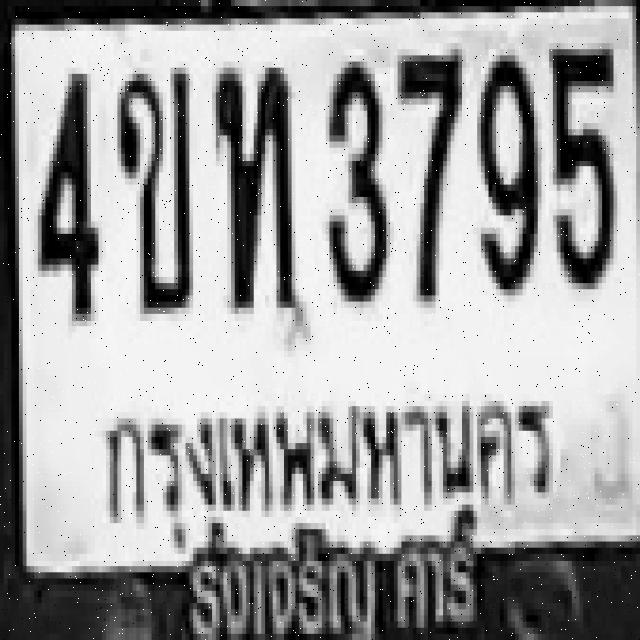11KhorKhai: (114, 61, 190, 308)
3: (322, 56, 386, 302)
32ThorThaHan: (212, 61, 299, 308)
4: (34, 68, 94, 314)
5: (548, 43, 612, 283)
7: (394, 46, 458, 298)
9: (477, 49, 534, 289)
Bangkok: (90, 378, 562, 544)
